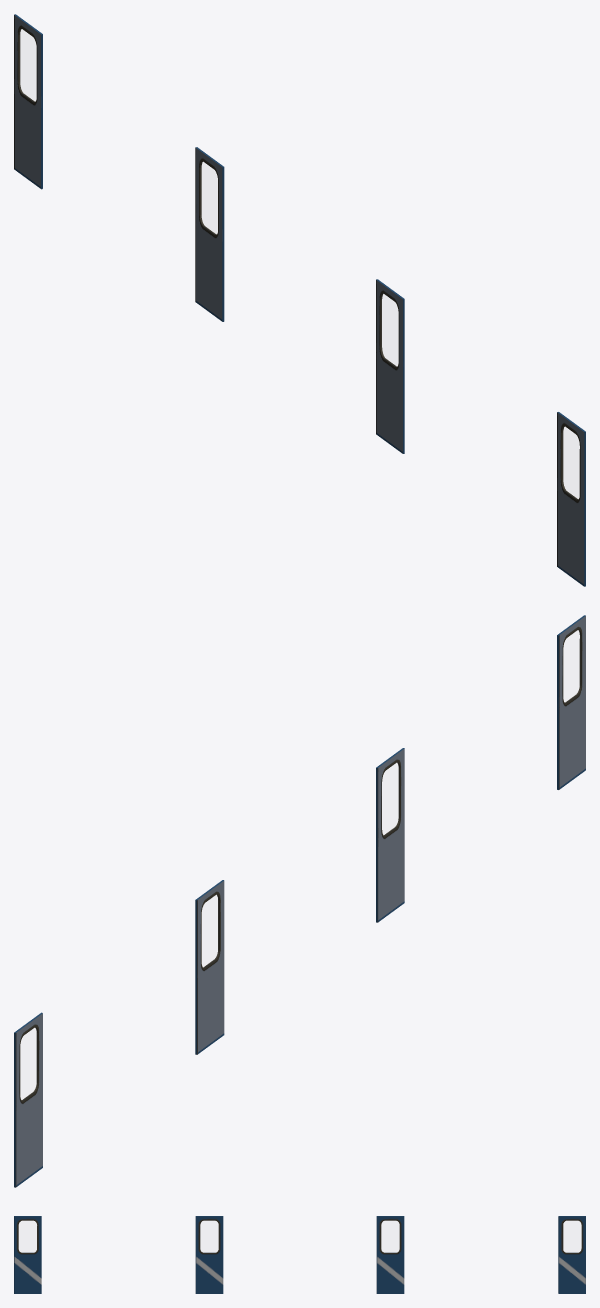
The model's file is SubwayTrain03_DoorR2.FBX.
The picture shows the model from 3 angles, top to bottom: view 1: azimuth 30°, elevation 25°; view 2: azimuth 150°, elevation 25°; view 3: azimuth 270°, elevation 25°; orthographic projection. The views are drawn at different scales.
Visible parts, largest first — view 1: SubwayTrain03_DoorR2; view 2: SubwayTrain03_DoorR2; view 3: SubwayTrain03_DoorR2.
Boxes of the visible parts, x1,y1,x2,y2 form: SubwayTrain03_DoorR2: (14, 14, 585, 586); SubwayTrain03_DoorR2: (14, 615, 585, 1187); SubwayTrain03_DoorR2: (14, 1216, 585, 1293).
Size of the model in its own units: 31.8 by 2619 by 17517.
